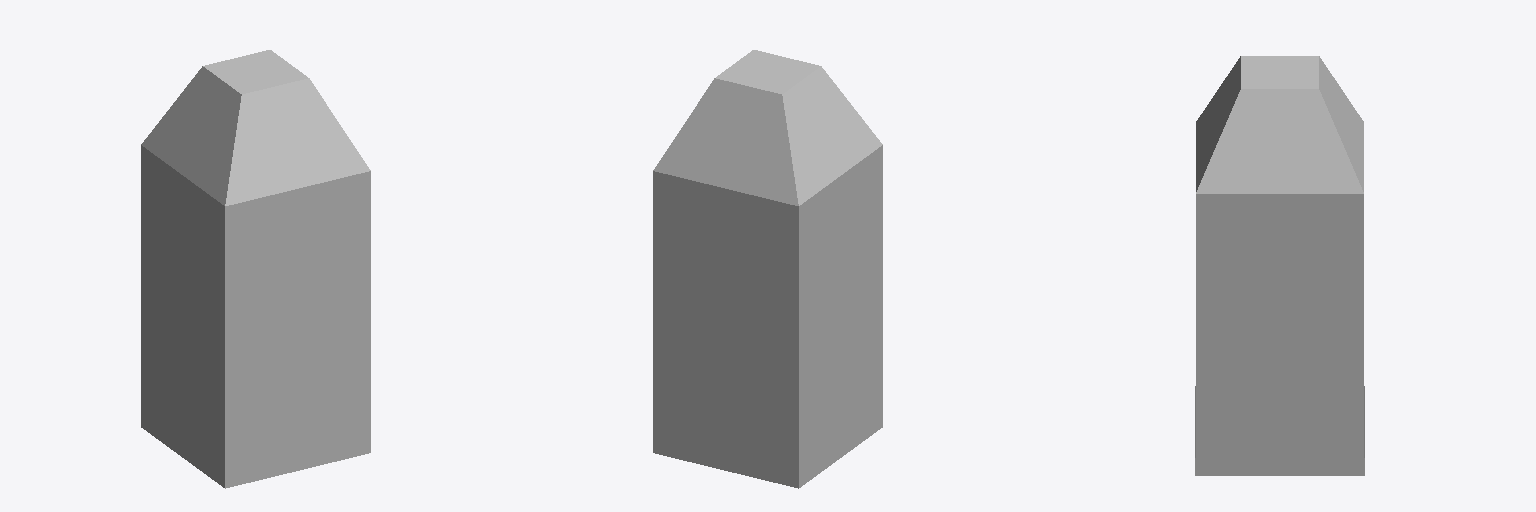
File: obilisk_top.obj
3 renders of one model, left to right at view 1: azimuth 30°, elevation 25°; view 2: azimuth 150°, elevation 25°; view 3: azimuth 270°, elevation 25°, orthographic.
Parts seen in each view (by area): view 1: polySurface5 polySurface4 pCube5; view 2: polySurface5 polySurface4 pCube5; view 3: polySurface5 polySurface4 pCube5.
Boxes of the visible parts, <box> form: polySurface5 polySurface4 pCube5: <box>141,50,370,488</box>; polySurface5 polySurface4 pCube5: <box>653,50,882,488</box>; polySurface5 polySurface4 pCube5: <box>1195,56,1364,475</box>.
Bounding box in the file's own units: 0.4165 × 1 × 0.4165.